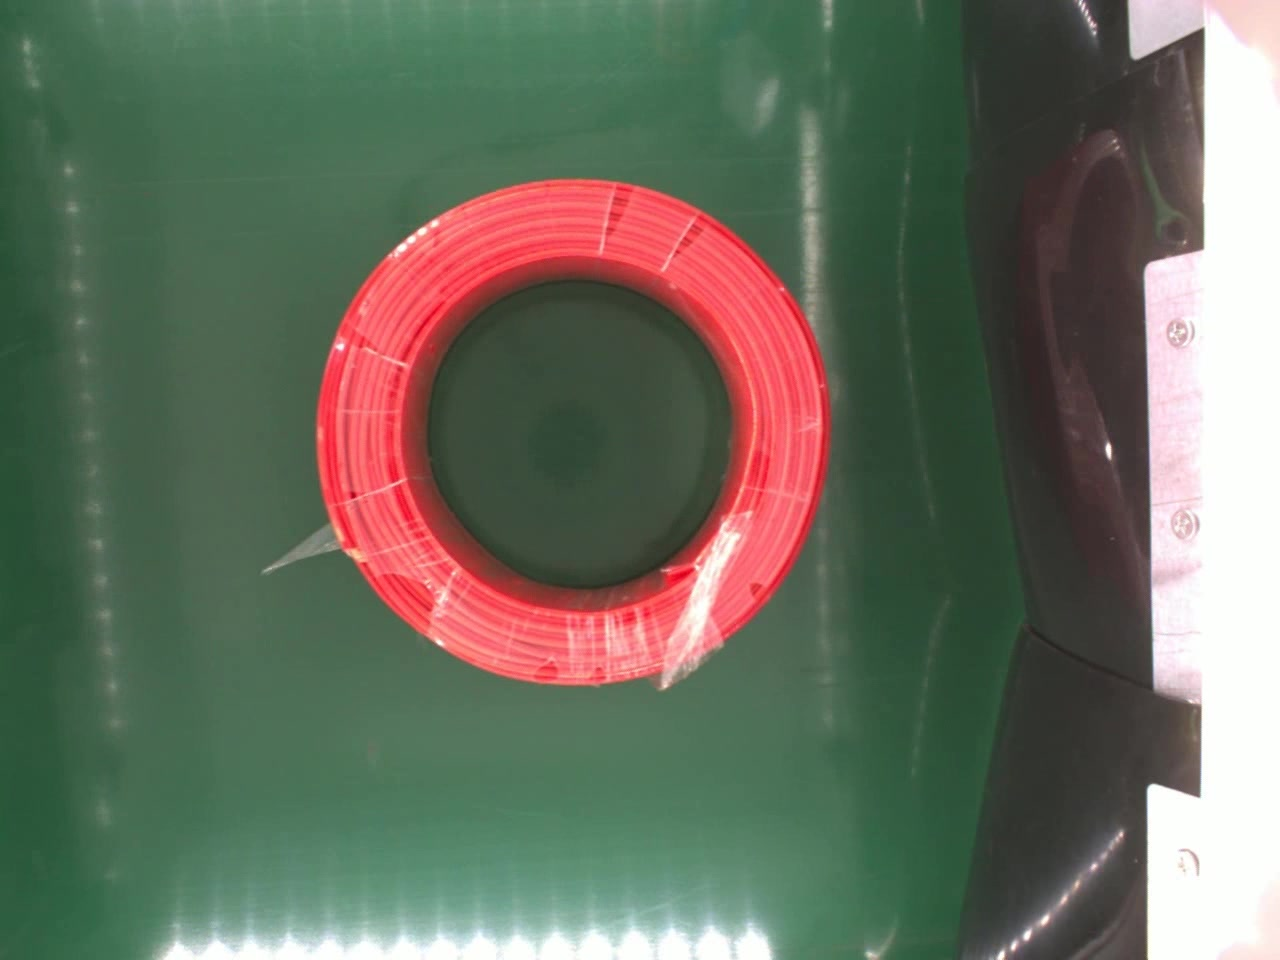red: (312, 174, 833, 690)
